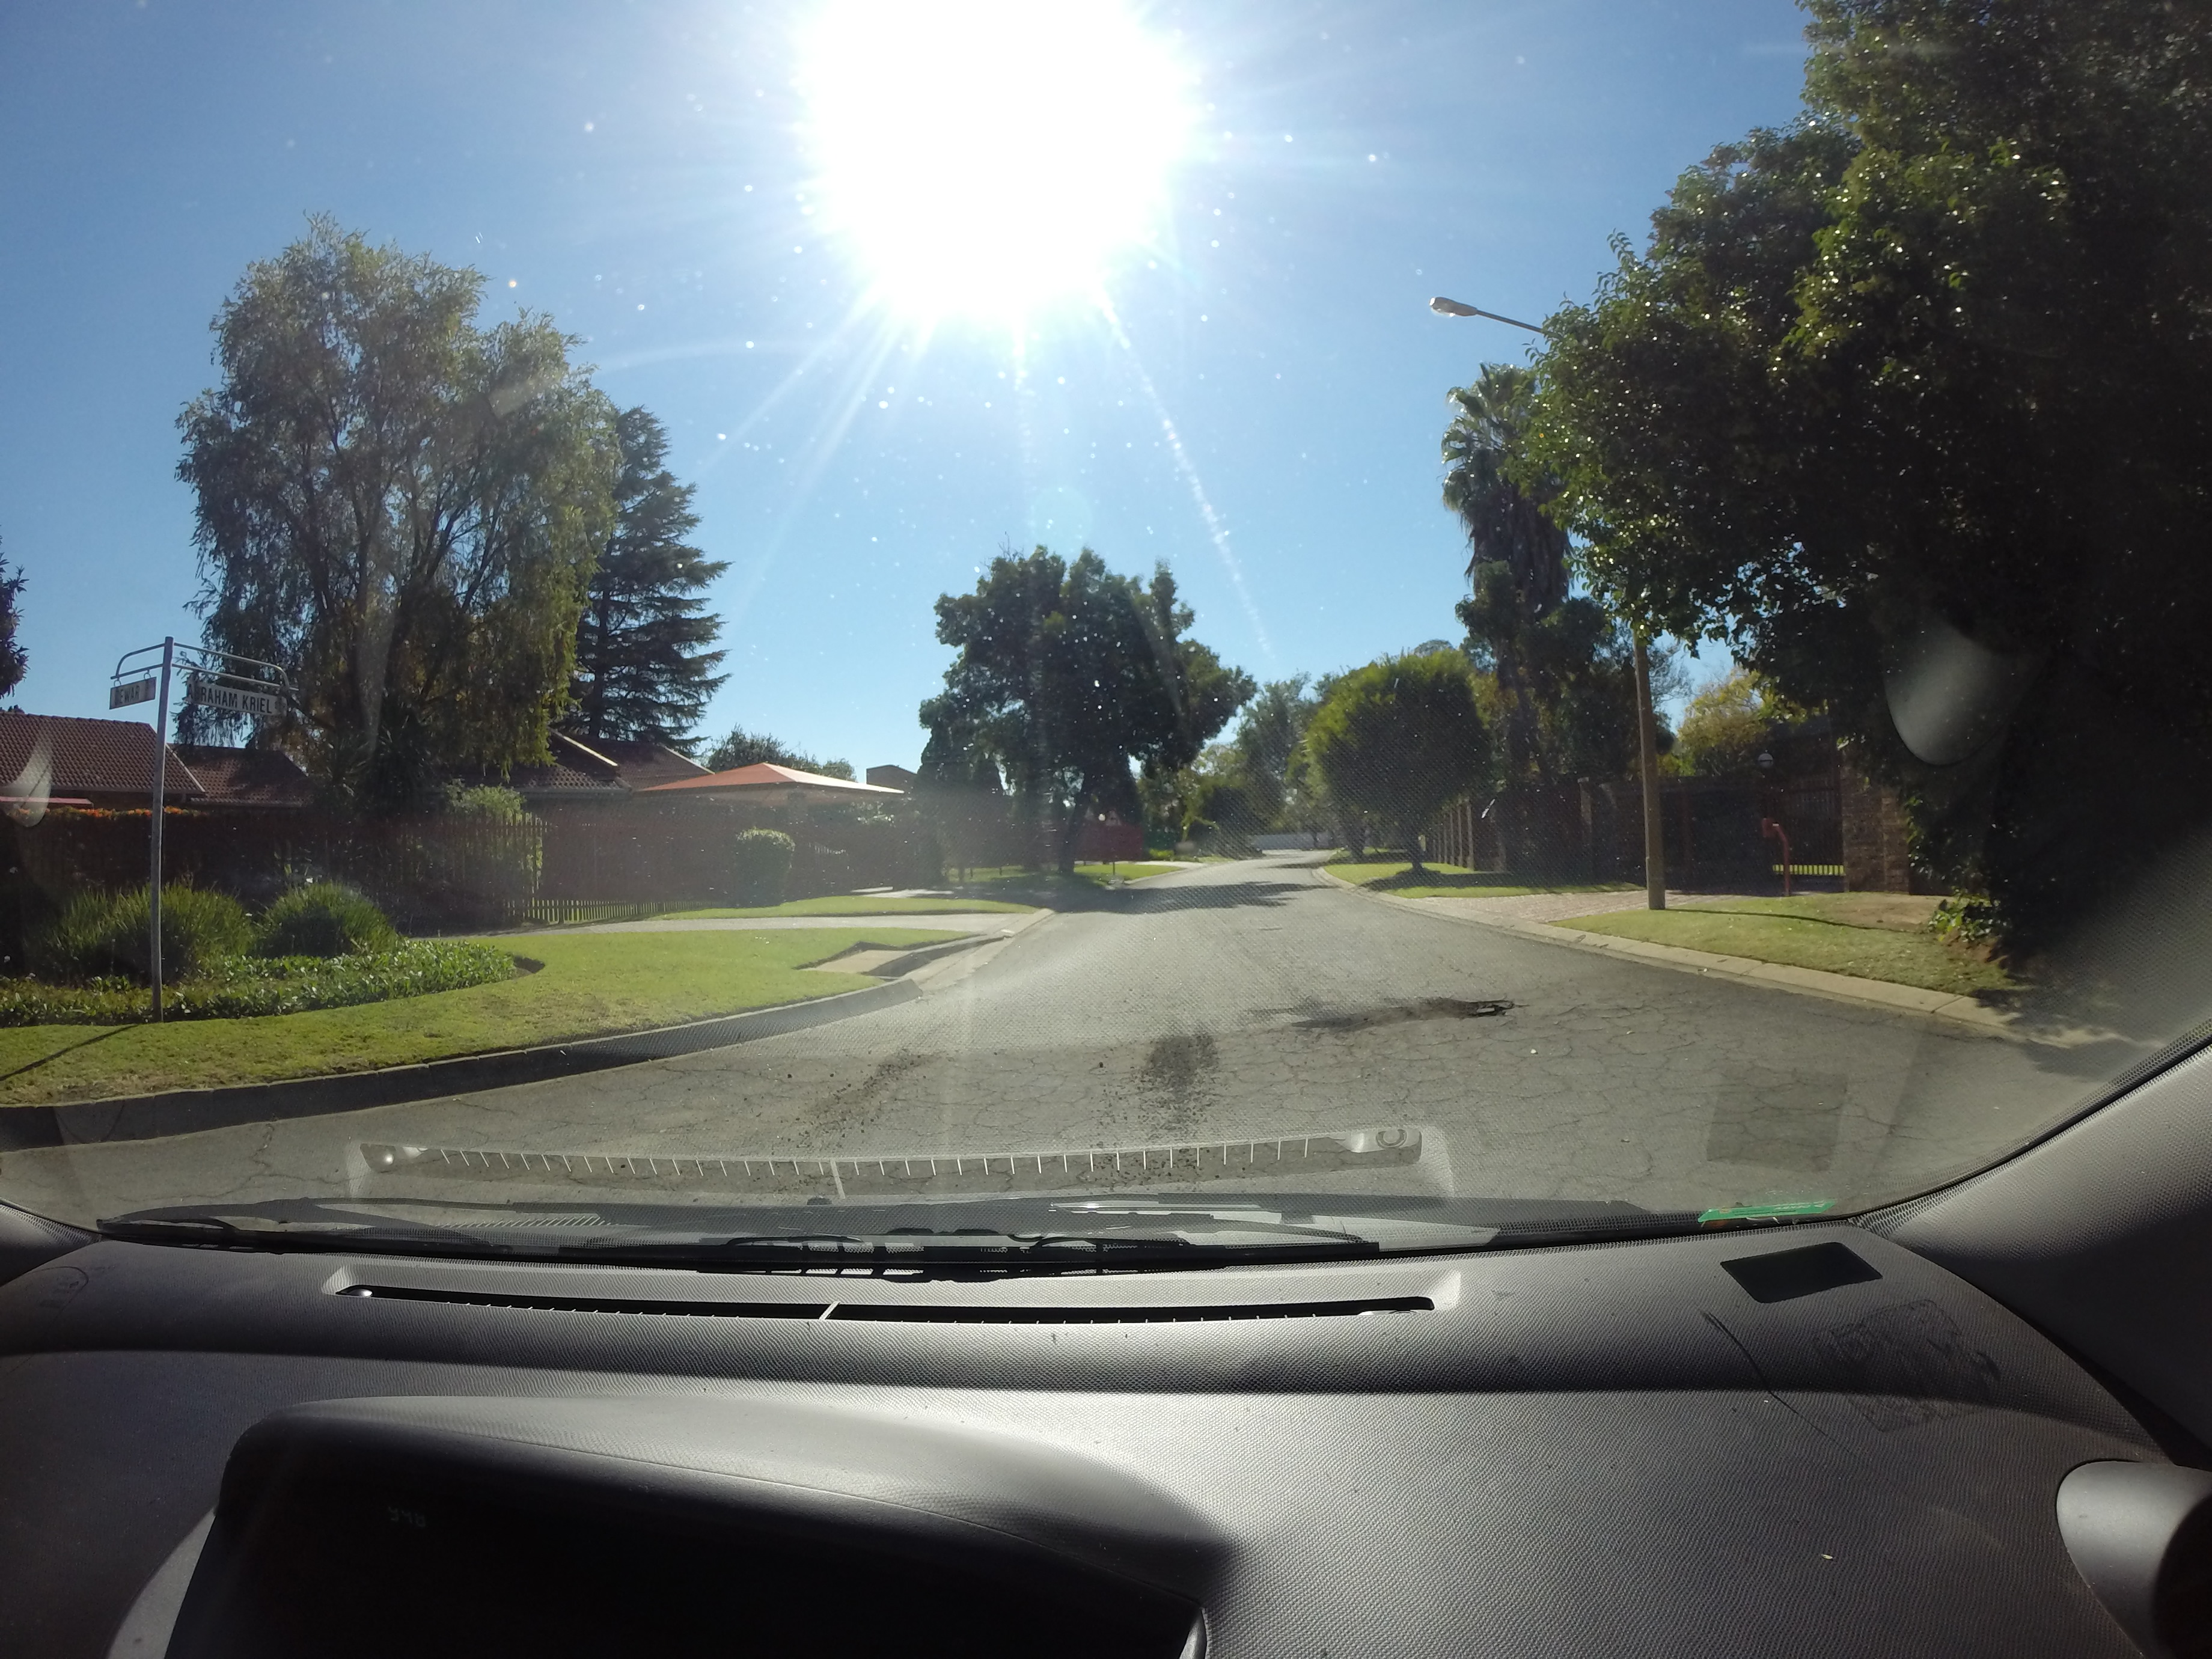pothole: (1400, 974, 1562, 1063)
